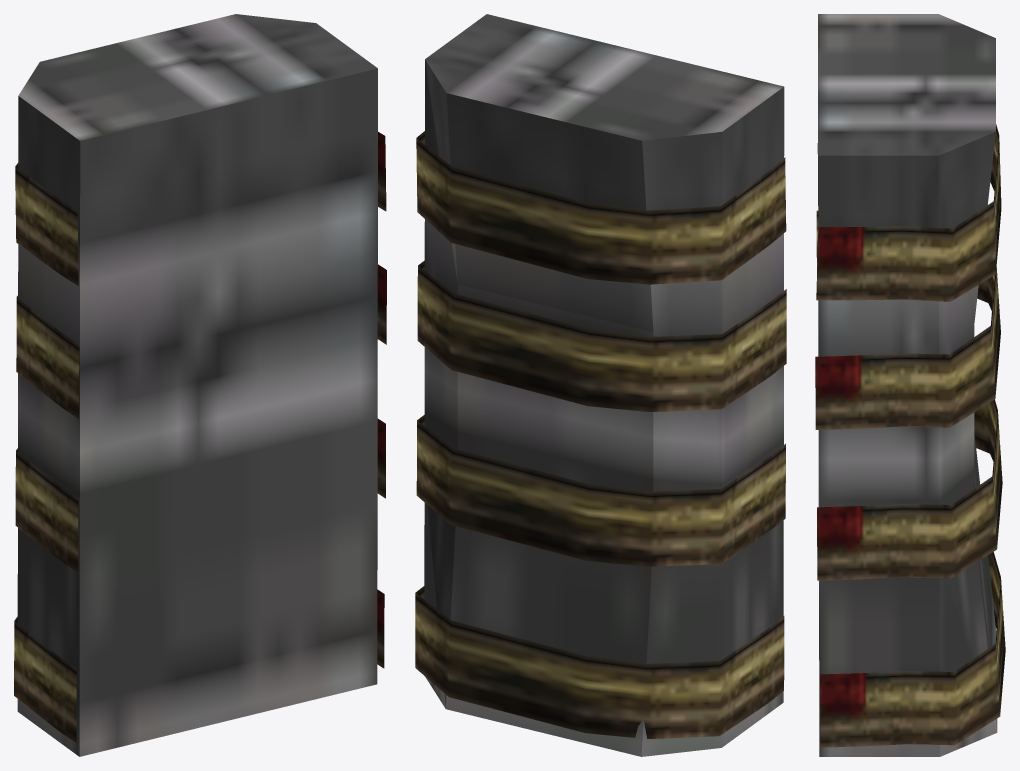
Rendered from stone_cargo.dae.
The picture shows the model from 3 angles, left to right: view 1: azimuth 30°, elevation 25°; view 2: azimuth 150°, elevation 25°; view 3: azimuth 270°, elevation 25°; orthographic projection. The views are drawn at different scales.
Parts seen in each view (by area): view 1: WoodStone; view 2: WoodStone; view 3: WoodStone.
Boxes of the visible parts, x1,y1,x2,y2 form: WoodStone: (14, 14, 386, 756); WoodStone: (415, 14, 786, 756); WoodStone: (815, 14, 1005, 756).
Bounding box in the file's own units: 0.8223 × 0.4512 × 1.57.
